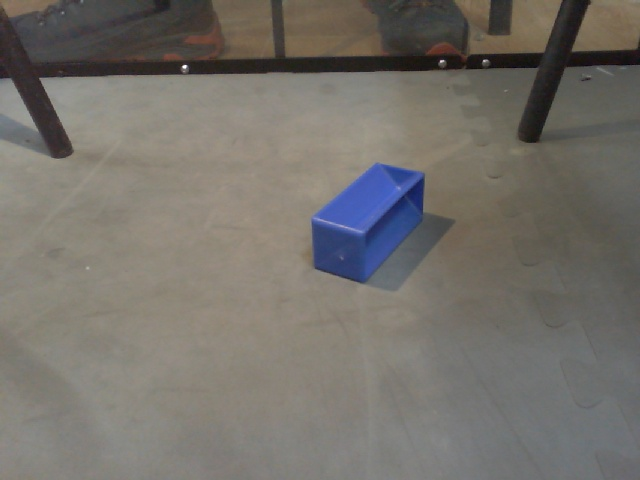BlueSample: (310, 161, 426, 286)
